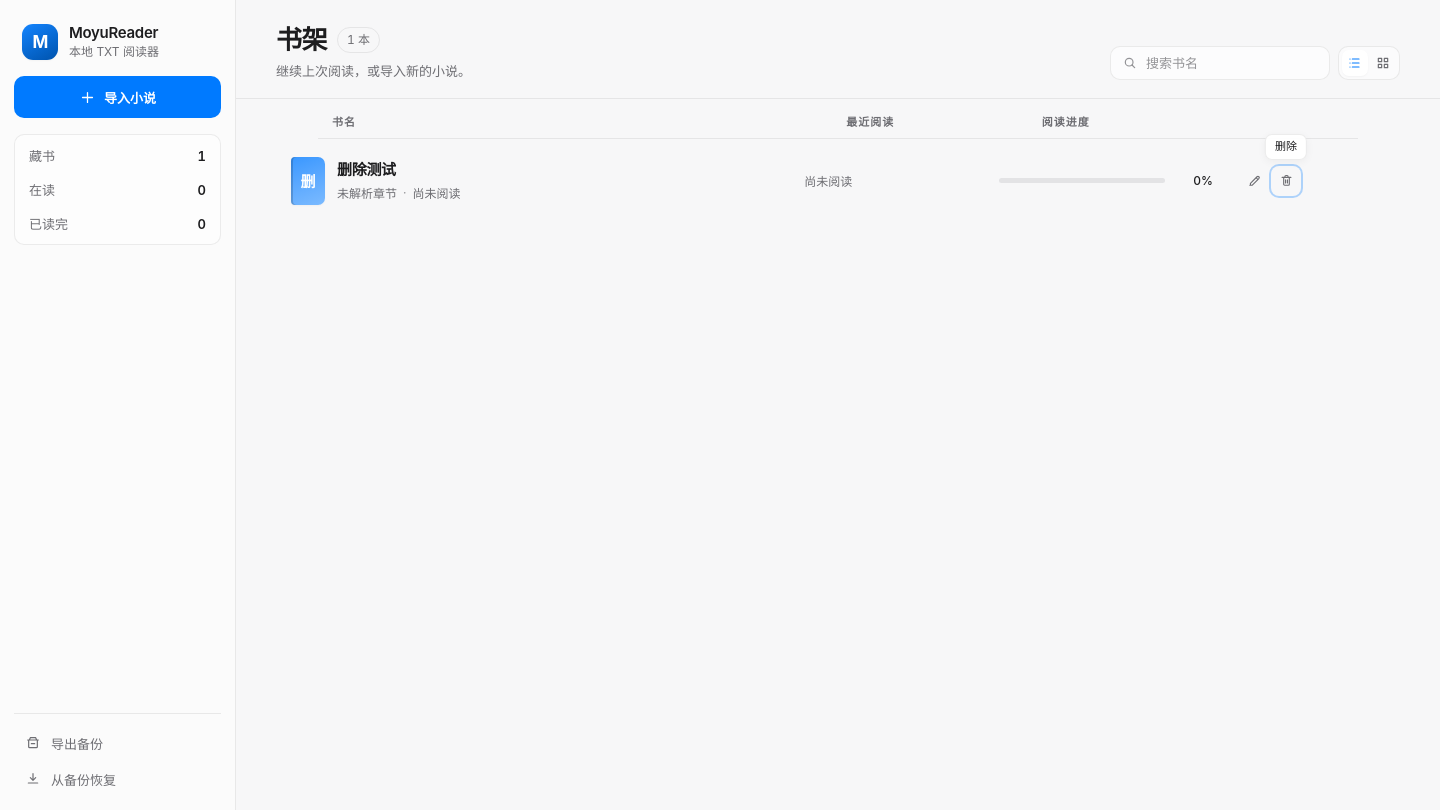
it: verify bookshelf fixes › delete dialog focuses cancel, closes on Escape, restores focus
Expected: the text "删除测试" is shown, [337, 160, 396, 179]
Click the button named "删除《" at (1286, 181), box [1271, 166, 1301, 196]
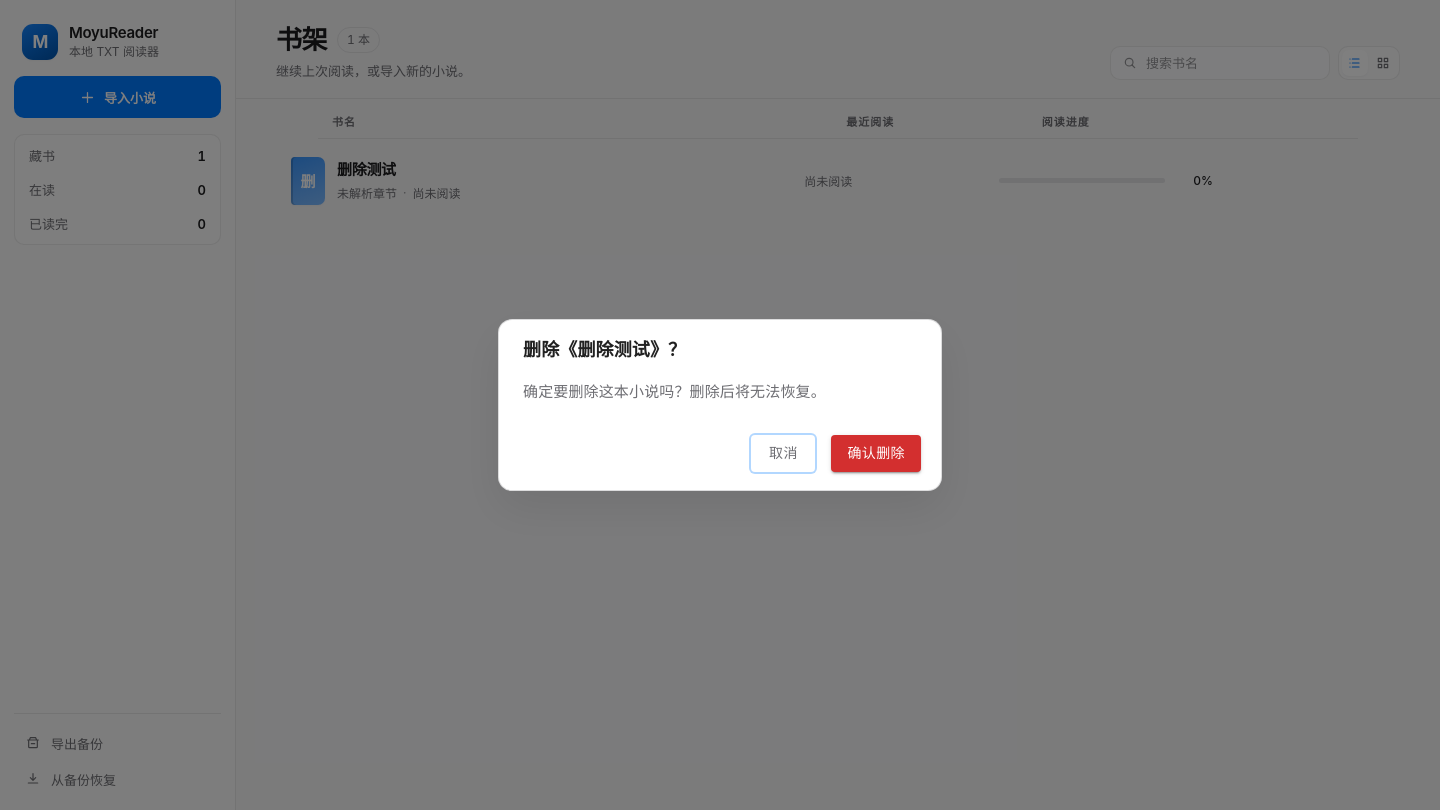
Now the button "取消" is shown, box [751, 435, 815, 472]
Press Escape
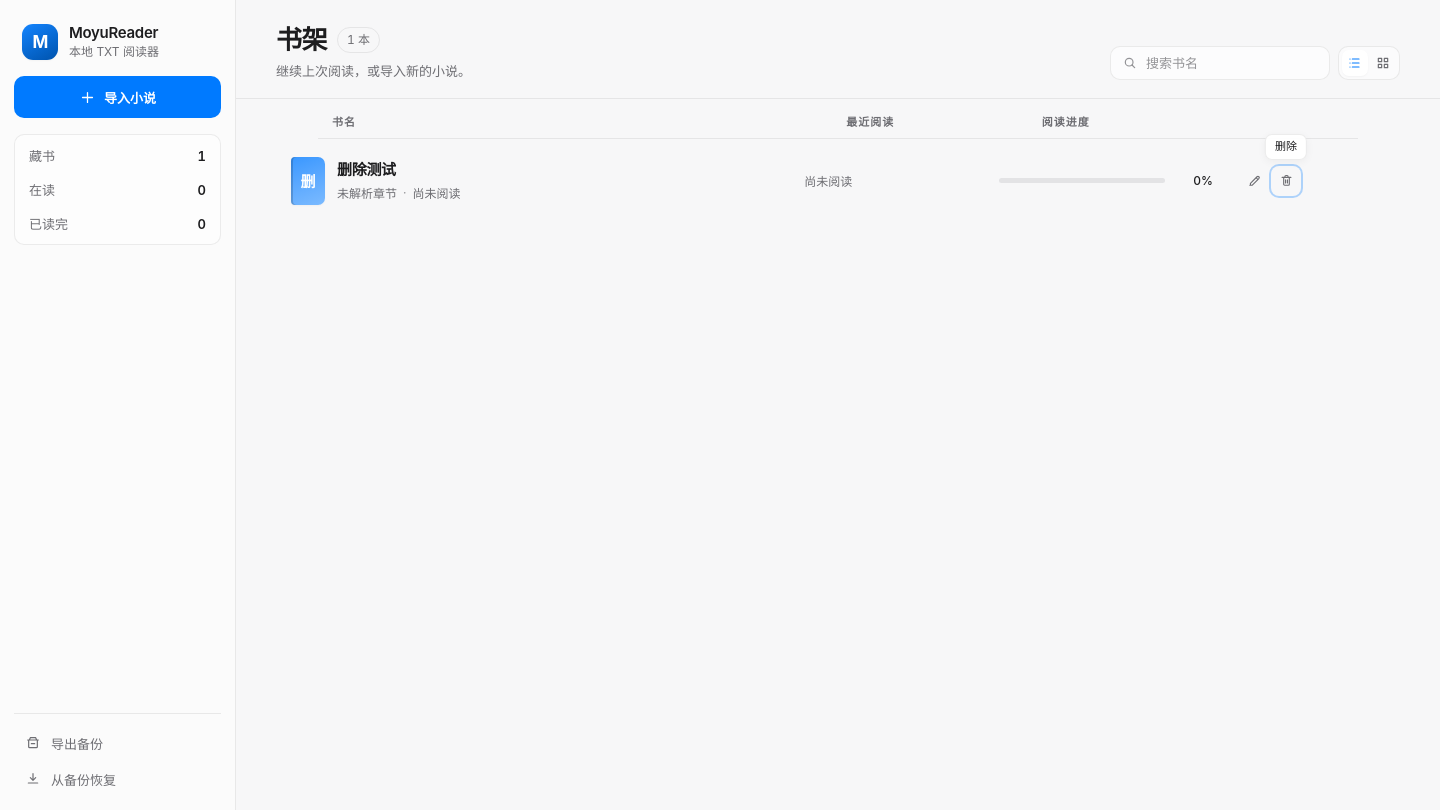
Now the dialog is gone
